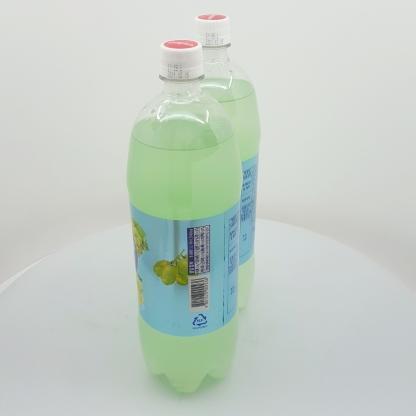---------------: (126, 39, 244, 393)
